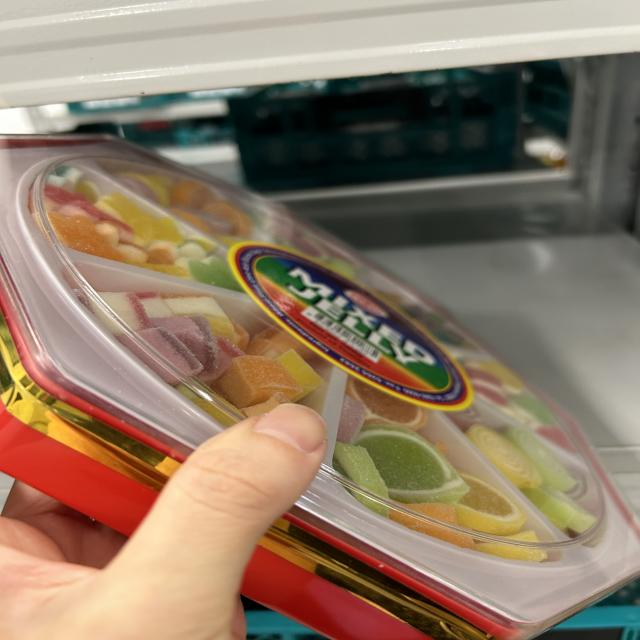object_name: (0, 136, 640, 640)
